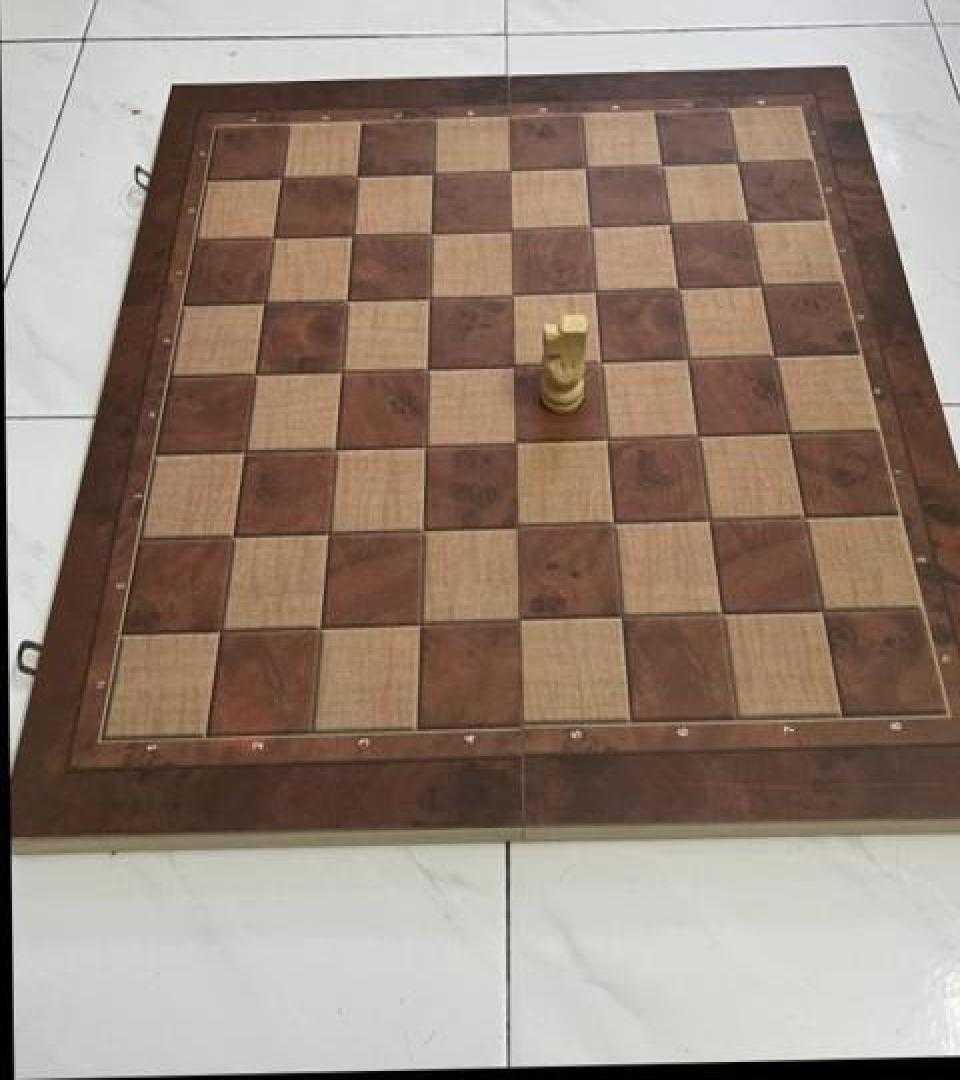xcorner: (564, 146, 600, 187), (260, 155, 296, 196), (729, 201, 765, 242), (490, 208, 526, 249), (410, 210, 446, 251), (574, 271, 610, 312), (491, 273, 527, 314), (244, 280, 280, 321), (493, 344, 529, 385), (235, 352, 271, 393), (768, 415, 804, 456), (677, 417, 713, 458), (405, 424, 441, 465), (314, 426, 350, 467), (593, 505, 629, 546), (497, 507, 533, 548), (213, 514, 249, 555), (700, 596, 736, 637), (400, 604, 436, 645), (300, 606, 336, 647), (718, 142, 754, 182), (641, 144, 677, 184), (488, 149, 524, 189), (412, 151, 448, 191), (336, 153, 372, 193), (649, 204, 685, 244), (569, 206, 605, 246), (331, 213, 367, 253), (252, 216, 288, 256), (741, 267, 777, 307), (657, 269, 693, 309), (409, 276, 445, 316), (326, 278, 362, 318), (754, 338, 790, 378), (667, 340, 703, 380), (580, 342, 616, 382), (407, 347, 443, 387), (320, 349, 356, 389), (586, 420, 622, 460), (495, 422, 531, 462), (224, 430, 260, 470), (784, 500, 820, 540), (688, 503, 724, 543), (402, 510, 438, 550), (308, 512, 344, 552), (801, 594, 837, 634), (600, 599, 636, 639), (500, 602, 536, 642), (201, 609, 237, 649)
